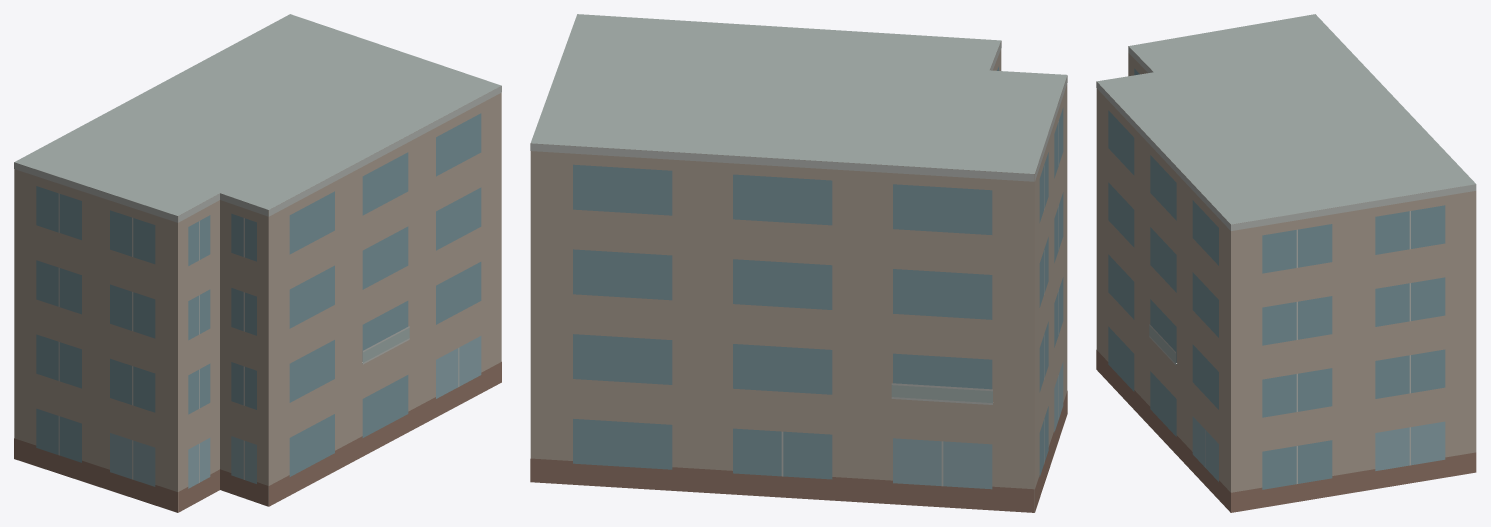
The model's file is survey-upis-32867549.glb.
3 renders of one model, left to right at view 1: azimuth 30°, elevation 25°; view 2: azimuth 150°, elevation 25°; view 3: azimuth 270°, elevation 25°, orthographic. The views are drawn at different scales.
Parts seen in each view (by area): view 1: survey-upis-32867549.tmp; view 2: survey-upis-32867549.tmp; view 3: survey-upis-32867549.tmp.
Boxes of the visible parts, x1,y1,x2,y2 form: survey-upis-32867549.tmp: (14, 14, 501, 512); survey-upis-32867549.tmp: (530, 14, 1067, 512); survey-upis-32867549.tmp: (1096, 14, 1476, 512).
Bounding box in the file's own units: 16.77 × 10.7 × 12.79.
